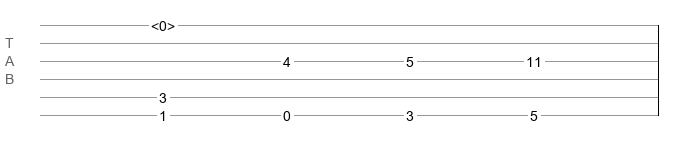0: (283, 108, 291, 118)
1: (159, 108, 167, 118)
11: (526, 54, 542, 64)
3: (159, 90, 167, 100), (406, 108, 414, 118)
4: (283, 54, 291, 64)
5: (406, 54, 414, 64), (530, 108, 538, 118)
harmonic: (151, 18, 175, 28)
